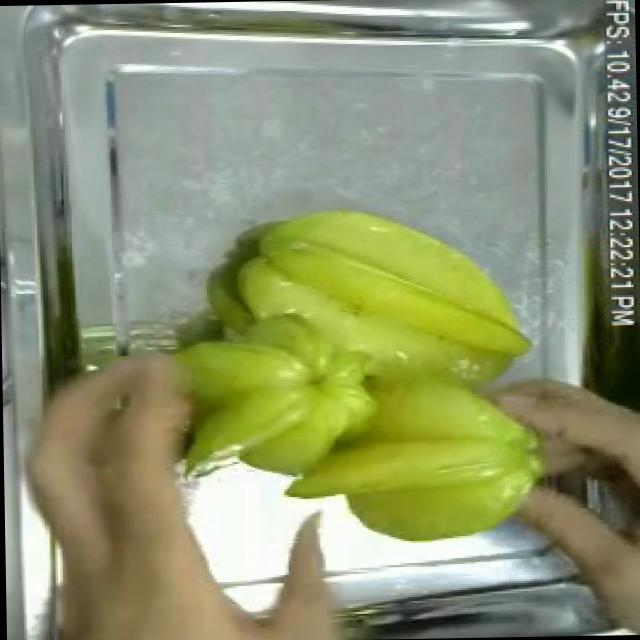fruit: (178, 188, 548, 574)
